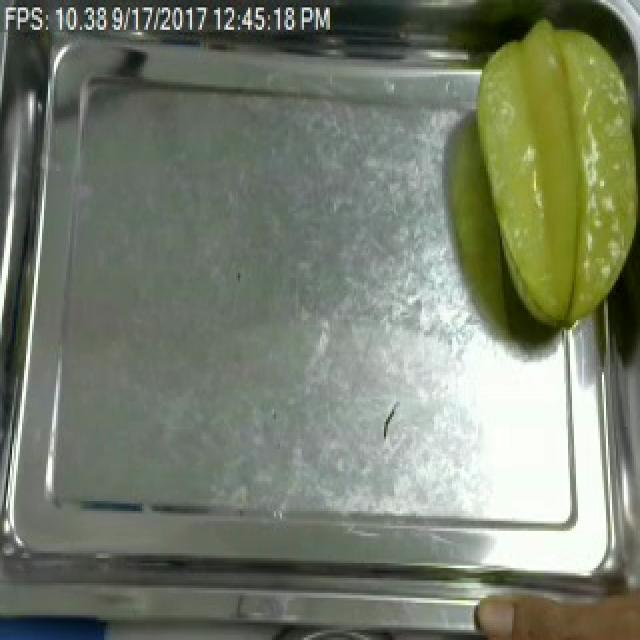fruit: (460, 7, 640, 340), (466, 563, 640, 640)
